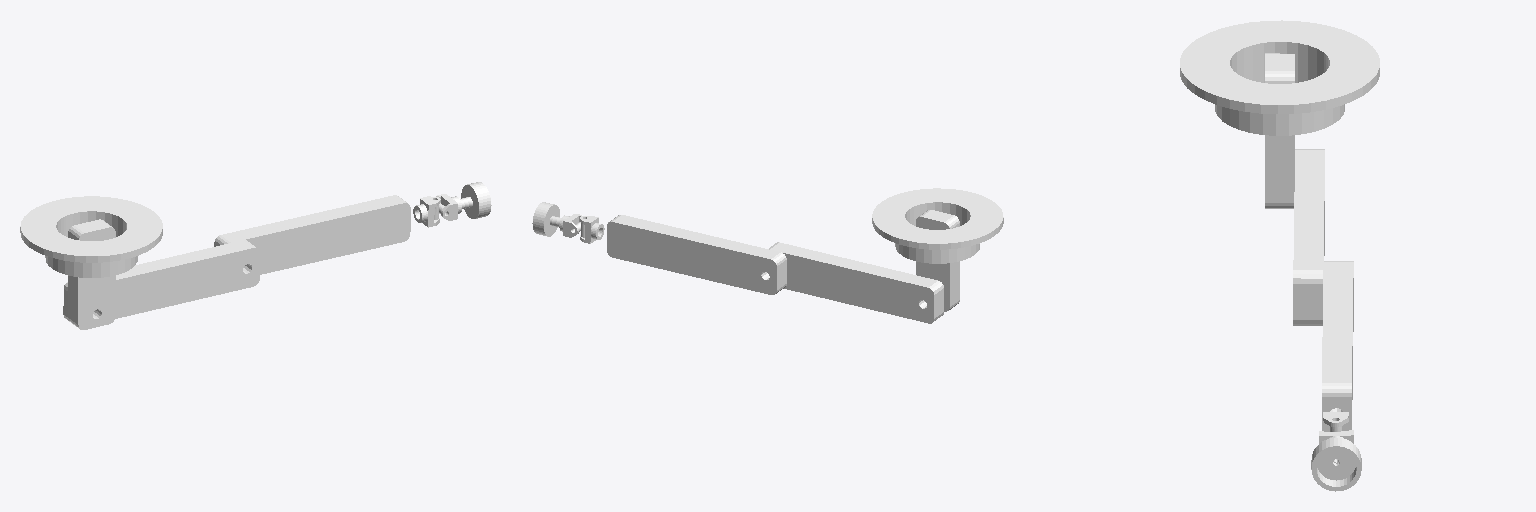
robot.urdf — robot_arm_3:
<?xml version="1.0" encoding="utf-8"?>
<!-- This URDF was automatically created by SolidWorks to URDF Exporter! Originally created by [author] ([email redacted]) 
     Commit Version: 1.6.0-4-g7f85cfe  Build Version: 1.6.7995.38578
     For more information, please see http://wiki.ros.org/sw_urdf_exporter -->
<robot
  name="robot_arm_3">
  <link name = "world"/>
  <joint name = "fixed_to_world" type = "fixed">
	<parent link = "world"/>
	<child link = "base_link"/>
	<origin xyz = "0 0 1" rpy = "0 0 0"/>
  </joint>
  
  <link
    name="base_link">
    <inertial>
      <origin
        xyz="-1.8605E-18 -1.8975E-18 -0.016979"
        rpy="0 0 0" />
      <mass
        value="0.85049" />
      <inertia
        ixx="0.0022601"
        ixy="-2.8982E-19"
        ixz="-3.4774E-20"
        iyy="0.0022601"
        iyz="2.3424E-19"
        izz="0.0041388" />
    </inertial>
    <visual>
      <origin
        xyz="0 0 0"
        rpy="0 0 0" />
      <geometry>
        <mesh
          filename="base_link.obj" />
      </geometry>
      <material
        name="">
        <color
          rgba="1 1 1 1" />
      </material>
    </visual>
    <collision>
      <origin
        xyz="0 0 0"
        rpy="0 0 0" />
      <geometry>
        <mesh
          filename="base_link.obj" />
      </geometry>
    </collision>
  </link>
  <link
    name="l1">
    <inertial>
      <origin
        xyz="1.3382E-17 4.0377E-17 -0.073888"
        rpy="0 0 0" />
      <mass
        value="0.49279" />
      <inertia
        ixx="0.00093216"
        ixy="5.9292E-21"
        ixz="-1.9799E-19"
        iyy="0.0010436"
        iyz="1.682E-22"
        izz="0.00018535" />
    </inertial>
    <visual>
      <origin
        xyz="0 0 0"
        rpy="0 0 0" />
      <geometry>
        <mesh
          filename="l1.obj" />
      </geometry>
      <material
        name="">
        <color
          rgba="1 1 1 1" />
      </material>
    </visual>
    <collision>
      <origin
        xyz="0 0 0"
        rpy="0 0 0" />
      <geometry>
        <mesh
          filename="l1.obj" />
      </geometry>
    </collision>
  </link>
  <joint
    name="j1_y"
    type="continuous">
    <origin
      xyz="0 0 0"
      rpy="0 0 -0.0063587" />
    <parent
      link="base_link" />
    <child
      link="l1" />
    <axis
      xyz="0 0 1" />
  </joint>
  <link
    name="l2">
    <inertial>
      <origin
        xyz="0.13 0.0149987870374356 0"
        rpy="0 0 0" />
      <mass
        value="0.990425177179219" />
      <inertia
        ixx="0.000374811972365841"
        ixy="-1.38278128639265E-19"
        ixz="1.39446960694196E-18"
        iyy="0.00747164640238597"
        iyz="1.7205356741103E-21"
        izz="0.00724539820659701" />
    </inertial>
    <visual>
      <origin
        xyz="0 0 0"
        rpy="0 0 0" />
      <geometry>
        <mesh
          filename="l2.obj" />
      </geometry>
      <material
        name="">
        <color
          rgba="1 1 1 1" />
      </material>
    </visual>
    <collision>
      <origin
        xyz="0 0 0"
        rpy="0 0 0" />
      <geometry>
        <mesh
          filename="l2.obj" />
      </geometry>
    </collision>
  </link>
  <joint
    name="j2_z"
    type="continuous">
    <origin
      xyz="0 0.015001 -0.13"
      rpy="0 0.0061927 0" />
    <parent
      link="l1" />
    <child
      link="l2" />
    <axis
      xyz="0 1 0" />
  </joint>
  <link
    name="l3">
    <inertial>
      <origin
        xyz="0.12920522008651 0.0149987870374357 -0.000552971099669952"
        rpy="0 0 0" />
      <mass
        value="0.983780708716876" />
      <inertia
        ixx="0.000375356546785353"
        ixy="-3.65918233213858E-18"
        ixz="2.89977251542246E-05"
        iyy="0.00737650060610192"
        iyz="-3.59724304787061E-20"
        izz="0.00715073565210872" />
    </inertial>
    <visual>
      <origin
        xyz="0 0 0"
        rpy="0 0 0" />
      <geometry>
        <mesh
          filename="l3.obj" />
      </geometry>
      <material
        name="">
        <color
          rgba="1 1 1 1" />
      </material>
    </visual>
    <collision>
      <origin
        xyz="0 0 0"
        rpy="0 0 0" />
      <geometry>
        <mesh
          filename="l3.obj" />
      </geometry>
    </collision>
  </link>
  <joint
    name="j3_z"
    type="continuous">
    <origin
      xyz="0.26 0.03 0"
      rpy="0 0 0" />
    <parent
      link="l2" />
    <child
      link="l3" />
    <axis
      xyz="0 1 0" />
    <limit
      lower="0"
      upper="0"
      effort="0"
      velocity="0" />
  </joint>
  <link
    name="l4">
    <inertial>
      <origin
        xyz="0.0348737574450678 0.000135608556168246 0.000206923769150713"
        rpy="0 0 0" />
      <mass
        value="0.0266519773767004" />
      <inertia
        ixx="4.32219474919646E-06"
        ixy="0"
        ixz="-5.03339402738517E-22"
        iyy="4.31685344384841E-06"
        iyz="1.96538113542599E-21"
        izz="2.70197186262894E-06" />
    </inertial>
    <visual>
      <origin
        xyz="0 0 0"
        rpy="0 0 0" />
      <geometry>
        <mesh
          filename="l4.obj" />
      </geometry>
      <material
        name="">
        <color
          rgba="1 1 1 1" />
      </material>
    </visual>
    <collision>
      <origin
        xyz="0 0 0"
        rpy="0 0 0" />
      <geometry>
        <mesh
          filename="l4.obj" />
      </geometry>
    </collision>
  </link>
  <joint
    name="j4_x"
    type="continuous">
    <origin
      xyz="0.279649277090822 0.0148703825853406 -0.00140831155489465"
      rpy="0.0344335808885861 0.0042797630247003 0" />
    <parent
      link="l3" />
    <child
      link="l4" />
    <axis
      xyz="-1 0 0" />
  </joint>
  <link
    name="l5">
    <inertial>
      <origin
        xyz="0.00499988800201401 3.366950070436E-05 -2.13830389506064E-09"
        rpy="0 0 0" />
      <mass
        value="0.00717543136084745" />
      <inertia
        ixx="4.80682074542431E-07"
        ixy="-2.84108230916606E-10"
        ixz="7.17367636184257E-15"
        iyy="5.2287803533137E-07"
        iyz="3.07605778639538E-14"
        izz="5.22879756055251E-07" />
    </inertial>
    <visual>
      <origin
        xyz="0 0 0"
        rpy="0 0 0" />
      <geometry>
        <mesh
          filename="l5.obj" />
      </geometry>
      <material
        name="">
        <color
          rgba="1 1 1 1" />
      </material>
    </visual>
    <collision>
      <origin
        xyz="0 0 0"
        rpy="0 0 0" />
      <geometry>
        <mesh
          filename="l5.obj" />
      </geometry>
    </collision>
  </link>
  <joint
    name="j5_y"
    type="continuous">
    <origin
      xyz="0.0478472567639797 0.000135608556168267 0.000206923769150741"
      rpy="0 0 0" />
    <parent
      link="l4" />
    <child
      link="l5" />
    <axis
      xyz="0 0 1" />
  </joint>
  <link
    name="l6">
    <inertial>
      <origin
        xyz="0.0129734993189118 -4.16333634234434E-17 0"
        rpy="0 0 0" />
      <mass
        value="0.0266519773767005" />
      <inertia
        ixx="4.32219474919647E-06"
        ixy="-8.83873503785881E-21"
        ixz="4.97817325914872E-22"
        iyy="2.70197186262895E-06"
        iyz="-4.22854729137108E-21"
        izz="4.31685344384842E-06" />
    </inertial>
    <visual>
      <origin
        xyz="0 0 0"
        rpy="0 0 0" />
      <geometry>
        <mesh
          filename="l6.obj" />
      </geometry>
      <material
        name="">
        <color
          rgba="1 1 1 1" />
      </material>
    </visual>
    <collision>
      <origin
        xyz="0 0 0"
        rpy="0 0 0" />
      <geometry>
        <mesh
          filename="l6.obj" />
      </geometry>
    </collision>
  </link>
  <joint
    name="j6_z"
    type="continuous">
    <origin
      xyz="0.0099998 6.7339E-05 0"
      rpy="0 -0.002535 0.006734" />
    <parent
      link="l5" />
    <child
      link="l6" />
    <axis
      xyz="0 1 0" />
  </joint>
  <link
    name="end_eff">
    <inertial>
      <origin
        xyz="0.033437 9.5032E-06 -0.0002577"
        rpy="0 0 0" />
      <mass
        value="0.046834" />
      <inertia
        ixx="1.6257E-05"
        ixy="1.7353E-09"
        ixz="-4.7056E-08"
        iyy="1.0152E-05"
        iyz="-1.3374E-11"
        izz="1.0152E-05" />
    </inertial>
    <visual>
      <origin
        xyz="0 0 0"
        rpy="0 0 0" />
      <geometry>
        <mesh
          filename="end_eff.obj" />
      </geometry>
      <material
        name="">
        <color
          rgba="1 1 1 1" />
      </material>
    </visual>
    <collision>
      <origin
        xyz="0 0 0"
        rpy="0 0 0" />
      <geometry>
        <mesh
          filename="end_eff.obj" />
      </geometry>
    </collision>
  </link>
  <joint
    name="fixed"
    type="fixed">
    <origin
      xyz="0.0175082698310722 0 0"
      rpy="-0.0345013318422102 -0.00771210290931469 -1.81963882119718E-05" />
    <parent
      link="l6" />
    <child
      link="end_eff" />
    <axis
      xyz="0.999970261716203 0.000284207959795348 -0.00770680926616584" />
  </joint>
</robot>

--- What the picture shows (computed from the rendered views, not written in the file) ---
3 views of the same robot in one strip: view 1: azimuth 30°, elevation 25°; view 2: azimuth 150°, elevation 25°; view 3: azimuth 270°, elevation 25° (orthographic).
Robot: robot_arm_3 — 9 links, 8 joints (6 continuous, 2 fixed); root link world; default pose: all joints at 0.
Visible links, largest first — view 1: base_link, l3, l2, l1, end_eff, l4; view 2: l3, l2, base_link, l1, end_eff; view 3: base_link, l2, l3, l1, end_eff.
Link boxes in pixels (x1=…): base_link: x1=20, y1=196, x2=162, y2=277; l3: x1=214, y1=195, x2=410, y2=274; l2: x1=63, y1=240, x2=259, y2=324; l1: x1=68, y1=219, x2=115, y2=329; end_eff: x1=460, y1=182, x2=491, y2=218; l4: x1=413, y1=196, x2=440, y2=227; l3: x1=607, y1=215, x2=786, y2=294; l2: x1=769, y1=242, x2=943, y2=323; base_link: x1=872, y1=188, x2=1003, y2=263; l1: x1=916, y1=210, x2=959, y2=311; end_eff: x1=532, y1=202, x2=560, y2=236; base_link: x1=1180, y1=20, x2=1379, y2=135; l2: x1=1293, y1=149, x2=1324, y2=325; l3: x1=1322, y1=261, x2=1353, y2=430; l1: x1=1265, y1=53, x2=1294, y2=208; end_eff: x1=1311, y1=438, x2=1361, y2=491.
Size in the robot's own frame: 0.7655 by 0.1996 by 0.1644 metres.
Meshes: 8 distinct files referenced, 8 mesh visuals loaded (8 OBJ).
